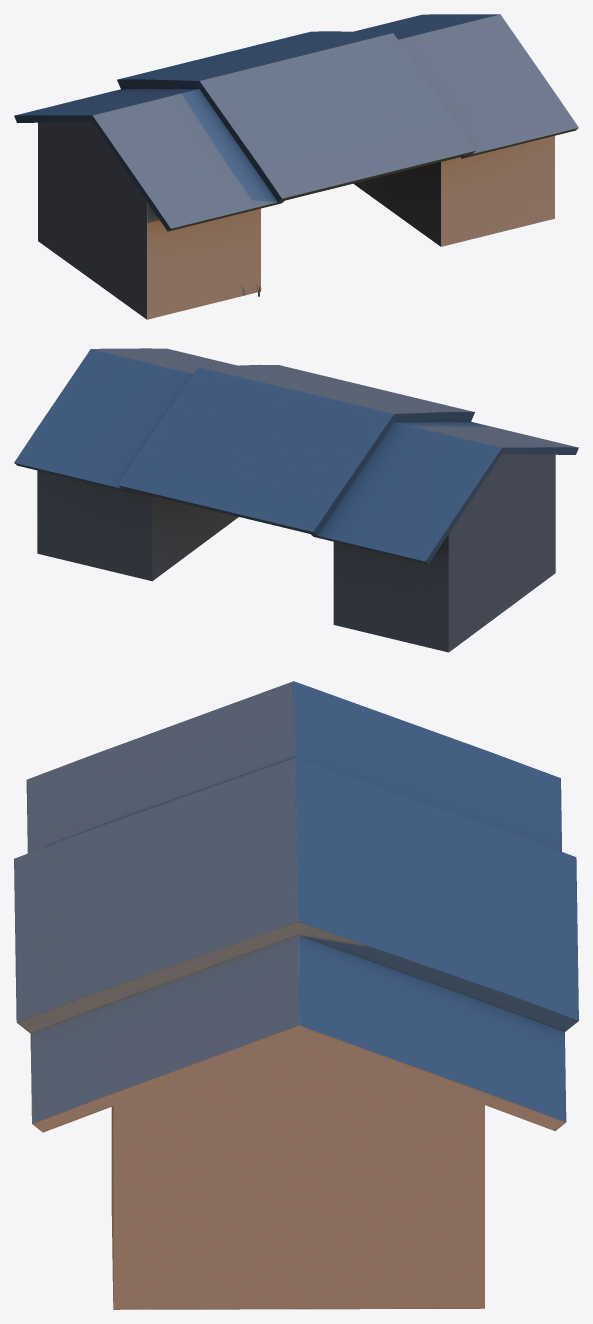
Rendered from entrance.glb.
3 views of the same model, one above another, from view 1: azimuth 30°, elevation 25°; view 2: azimuth 150°, elevation 25°; view 3: azimuth 270°, elevation 25° (orthographic). The views are drawn at different scales.
Visible parts, largest first — view 1: Cube.001; view 2: Cube.001; view 3: Cube.001.
Part boxes in pixels (<box>): Cube.001: <box>14,14,578,319</box>; Cube.001: <box>14,348,578,652</box>; Cube.001: <box>14,681,578,1309</box>.
Size of the model in its own units: 16.01 by 6.43 by 11.06.
Materials: 1 (1 with a texture image).
